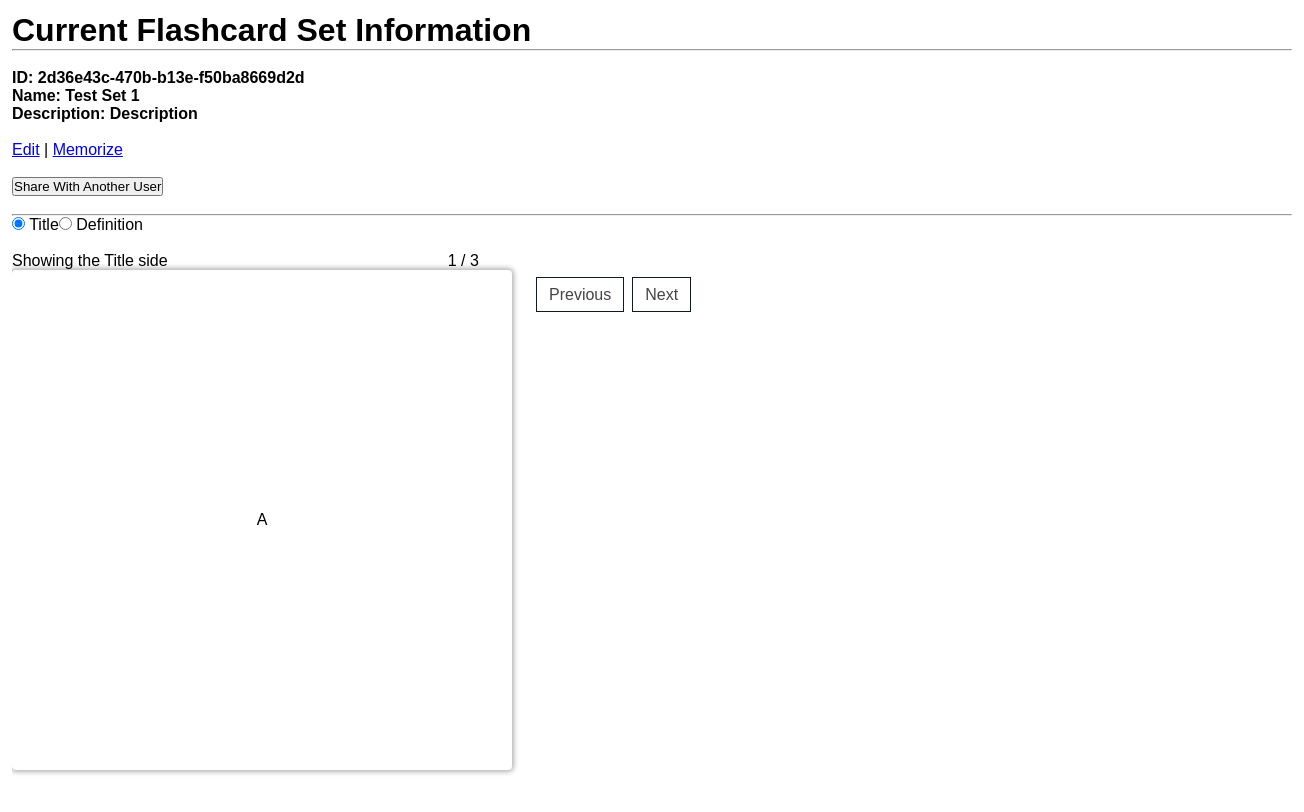
Test: validates the Previous Button displays the previous flashcard in the set
Expected: the text "A" is shown, [257,511,267,528]
Click the text "Previous": coordinates (580, 294) [536,277,624,312]
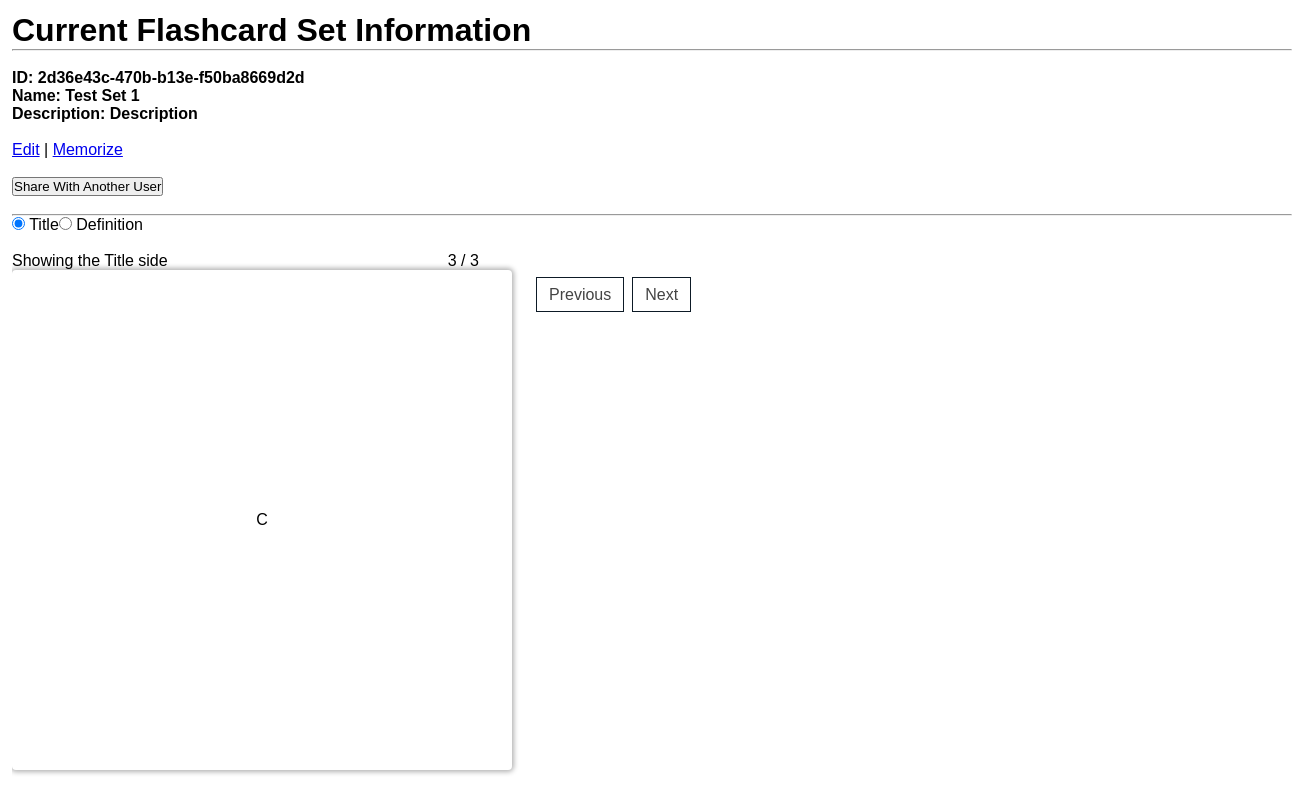
Expected: the text "C" is shown, [256,511,268,528]
Click the text "Previous": coordinates (580, 294) [536,277,624,312]
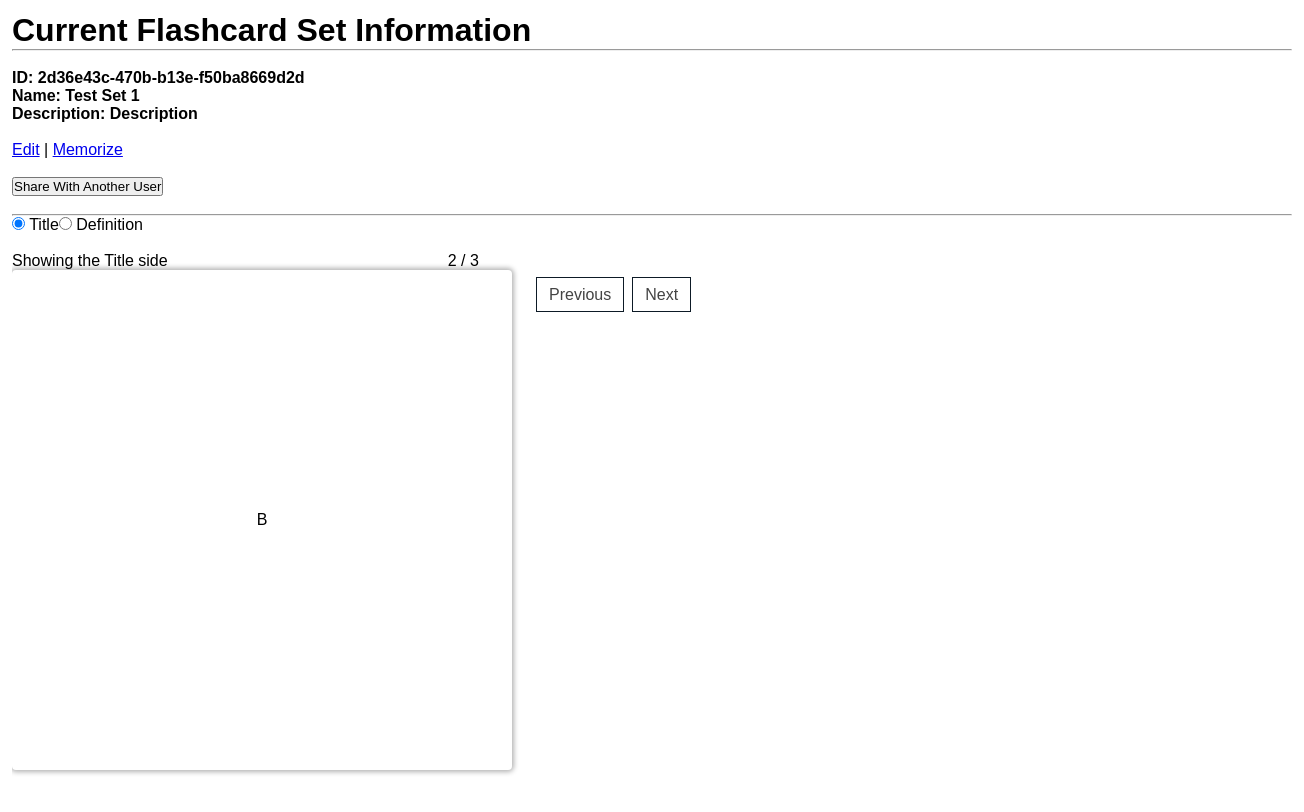
Expected: the text "B" is shown, [257,511,267,528]
